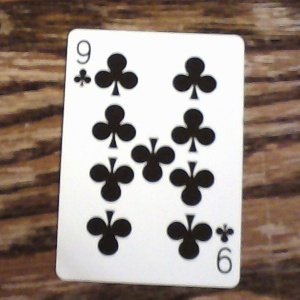card: (54, 28, 245, 287)
